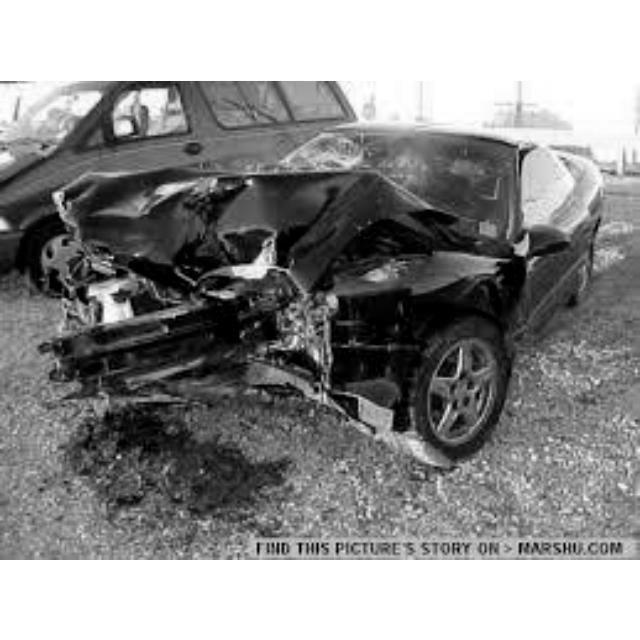Front-windscreen-damage: (302, 115, 418, 203)
bonnet-dent: (79, 139, 415, 255)
front-bumper-dent: (95, 270, 290, 376)
